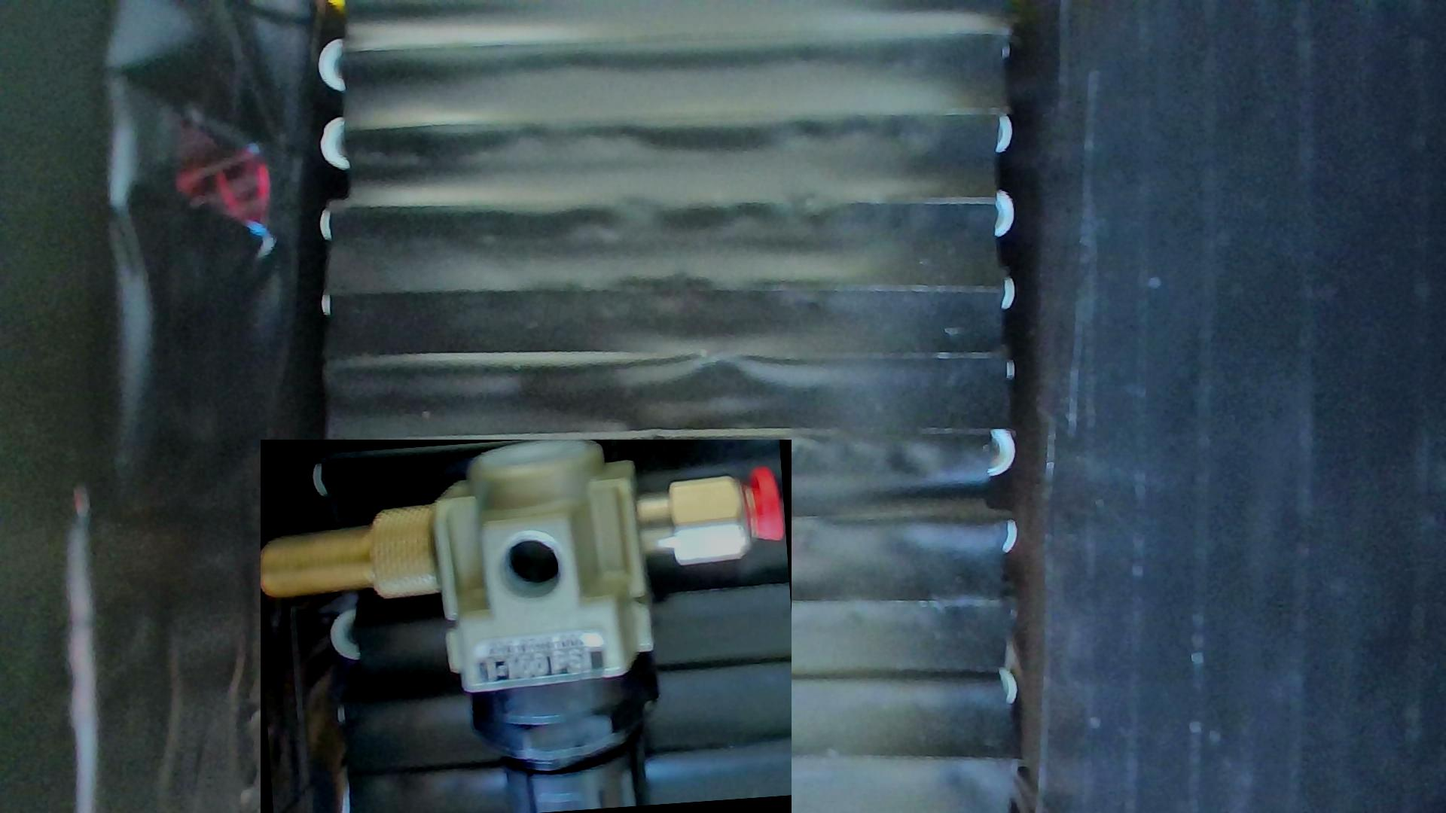regulator: (261, 440, 792, 813)
